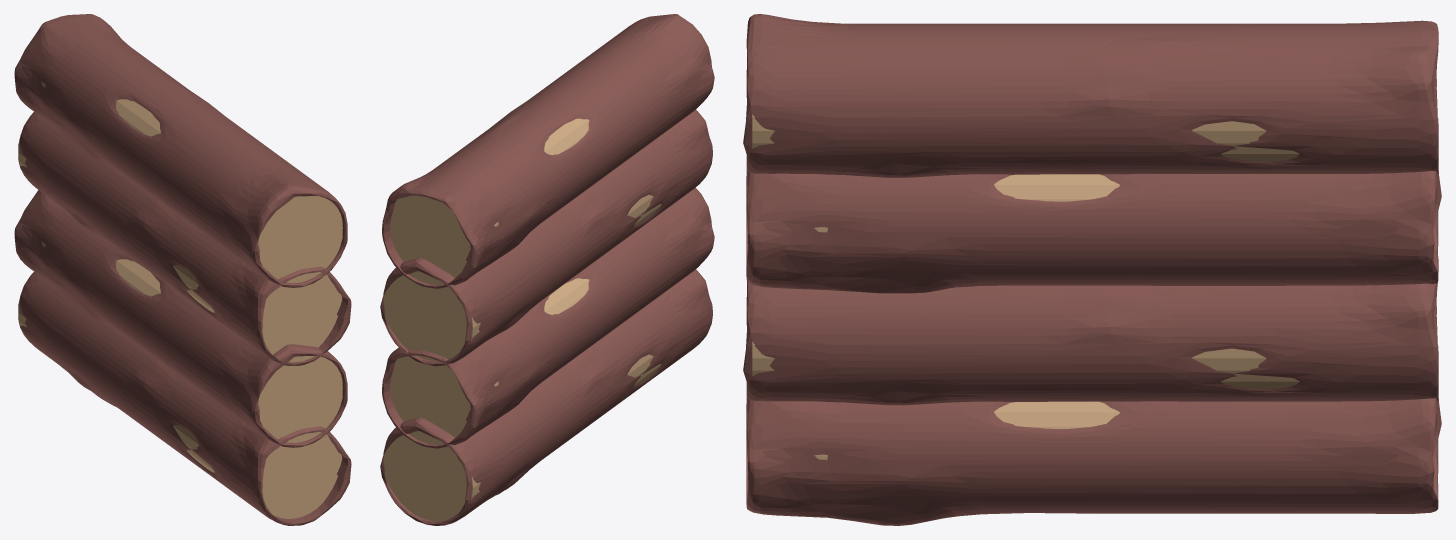
Rendered from wall.fbx.
The picture shows the model from 3 angles, left to right: view 1: azimuth 30°, elevation 25°; view 2: azimuth 150°, elevation 25°; view 3: azimuth 270°, elevation 25°; orthographic projection. The views are drawn at different scales.
Visible parts, largest first — view 1: wall; view 2: wall; view 3: wall.
Part boxes in pixels (<box>): wall: <box>14,14,351,525</box>; wall: <box>380,14,714,525</box>; wall: <box>743,14,1441,525</box>.
Bounding box in the file's own units: 101 × 336 × 436.
